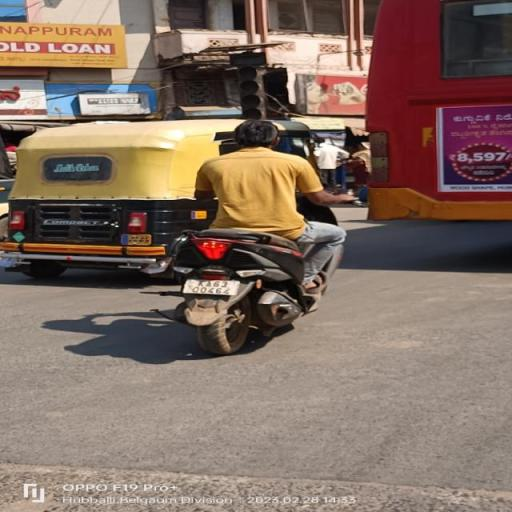bike: (163, 118, 351, 356)
numberplate: (182, 276, 240, 299)
withouthelmet: (234, 120, 278, 150)
